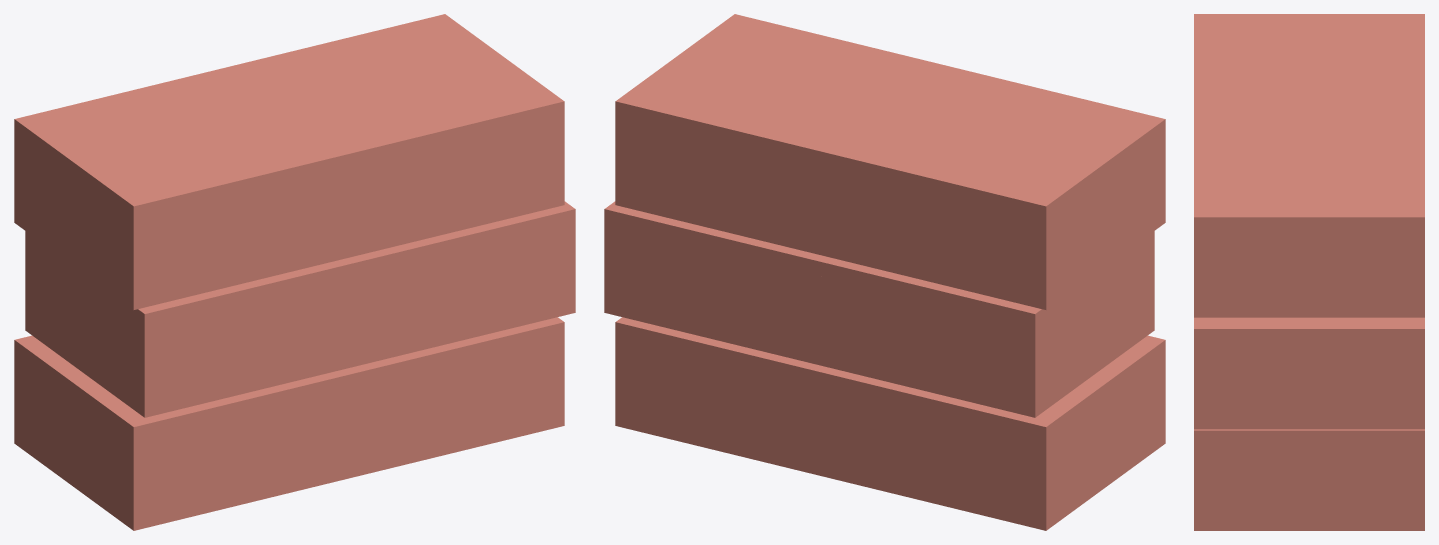
Rendered from BrickStack.fbx.
3 views of the same model, side by side, from view 1: azimuth 30°, elevation 25°; view 2: azimuth 150°, elevation 25°; view 3: azimuth 270°, elevation 25° (orthographic). The views are drawn at different scales.
Parts seen in each view (by area): view 1: Segment_3.001, Segment_1.001, Segment_6.001, Segment_2.001, Segment_4.001, Segment_5.001; view 2: Segment_3.001, Segment_1.001, Segment_6.001, Segment_2.001, Segment_4.001, Segment_5.001; view 3: Segment_6.001, Segment_3.001, Segment_4.001, Segment_5.001.
Boxes of the visible parts, left/top/right/bottom form: Segment_3.001: left=14, top=55, right=374, bottom=316; Segment_1.001: left=14, top=304, right=374, bottom=530; Segment_6.001: left=276, top=14, right=575, bottom=273; Segment_2.001: left=25, top=231, right=374, bottom=391; Segment_4.001: left=369, top=312, right=575, bottom=471; Segment_5.001: left=375, top=237, right=575, bottom=348; Segment_3.001: left=784, top=60, right=1165, bottom=316; Segment_1.001: left=784, top=304, right=1165, bottom=530; Segment_6.001: left=604, top=14, right=923, bottom=269; Segment_2.001: left=784, top=231, right=1154, bottom=391; Segment_4.001: left=604, top=312, right=791, bottom=466; Segment_5.001: left=604, top=237, right=784, bottom=344; Segment_6.001: left=1194, top=127, right=1424, bottom=355; Segment_3.001: left=1194, top=14, right=1424, bottom=137; Segment_4.001: left=1194, top=428, right=1424, bottom=530; Segment_5.001: left=1194, top=356, right=1424, bottom=428.
Size of the model in its own units: 5.03 by 3.53 by 2.35.
